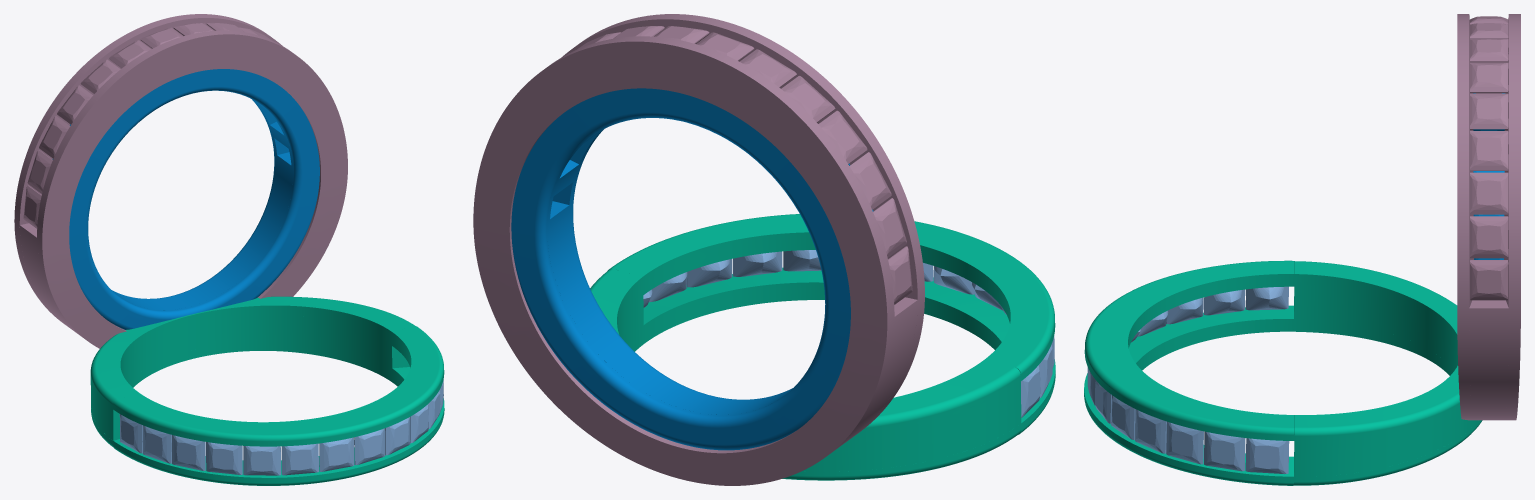
3 renders of one model, left to right at view 1: azimuth 30°, elevation 25°; view 2: azimuth 150°, elevation 25°; view 3: azimuth 270°, elevation 25°, orthographic. The views are drawn at different scales.
Parts seen in each view (by area): view 1: VR369(base).3dm, Diamond_Princess (×17); view 2: VR369(base).3dm, Diamond_Princess (×14); view 3: VR369(base).3dm, Diamond_Princess (×17).
Part boxes in pixels (<box>): VR369(base).3dm: <box>14,14,444,485</box>; Diamond_Princess (×17): <box>23,27,428,475</box>; VR369(base).3dm: <box>473,14,1055,485</box>; Diamond_Princess (×14): <box>649,26,1040,417</box>; VR369(base).3dm: <box>1084,14,1520,485</box>; Diamond_Princess (×17): <box>1095,23,1508,473</box>.
Bounding box in the file's own units: 2.8 × 2.83 × 3.02.
